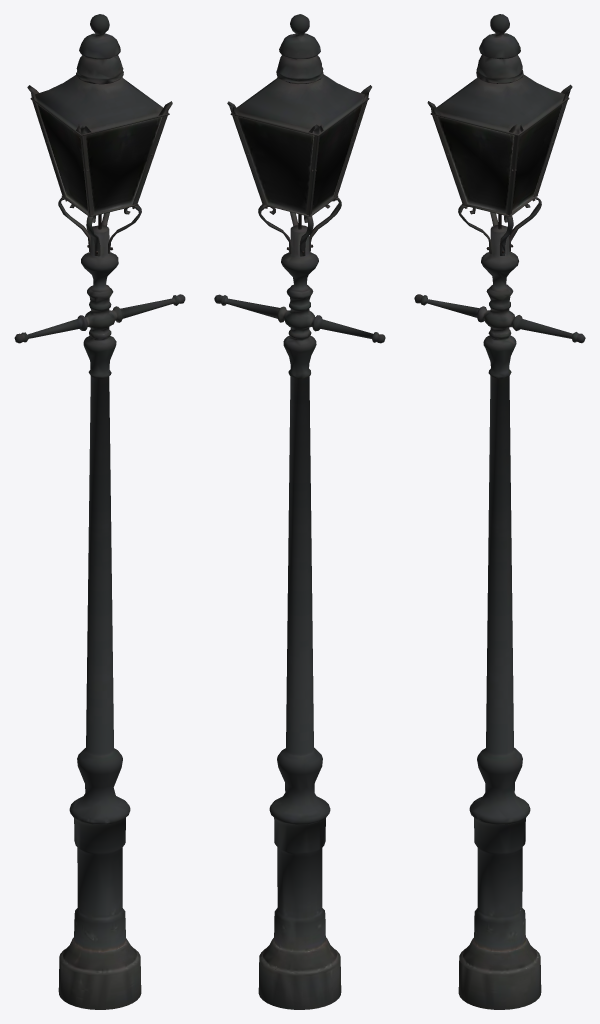
Rendered from street_lamp_01.glb.
3 renders of one model, left to right at view 1: azimuth 30°, elevation 25°; view 2: azimuth 150°, elevation 25°; view 3: azimuth 330°, elevation 25°, orthographic.
Parts seen in each view (by area): view 1: street_lamp_01; view 2: street_lamp_01; view 3: street_lamp_01.
Part boxes in pixels (bbox=[...]): street_lamp_01: bbox=[14, 14, 185, 1009]; street_lamp_01: bbox=[214, 14, 385, 1009]; street_lamp_01: bbox=[414, 14, 585, 1009].
Size of the model in its own units: 0.7011 by 3.87 by 0.3862.
2 materials, 2 textured.
